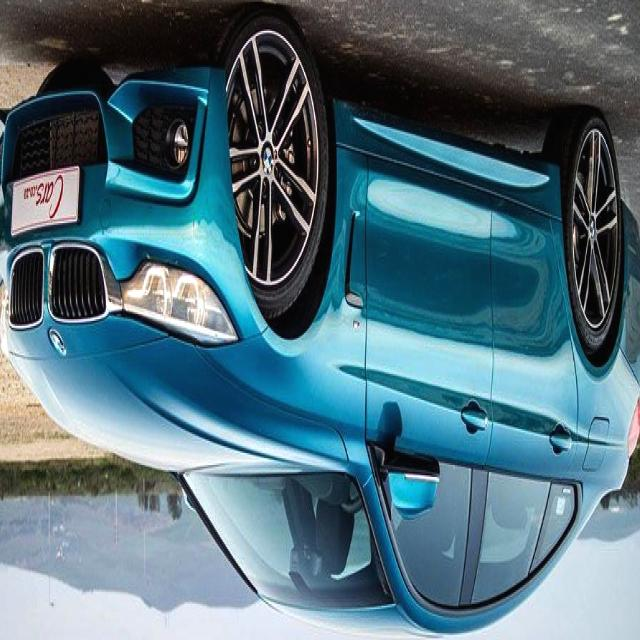blue: (0, 1, 633, 618)
